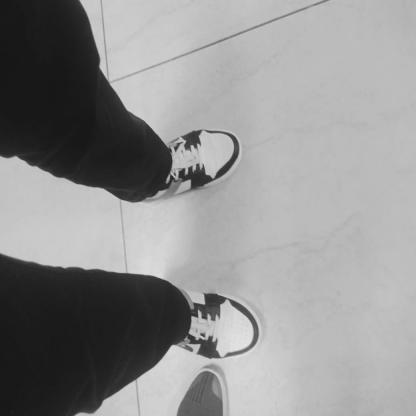ankle: (191, 327, 193, 330), (165, 187, 166, 188)
heel: (142, 203, 144, 206), (178, 289, 179, 291)
left_foot: (137, 129, 242, 208)
pinky: (244, 350, 247, 352), (218, 134, 220, 136)
right_foot: (173, 285, 264, 360)
toe: (252, 312, 254, 315), (237, 157, 239, 159)
